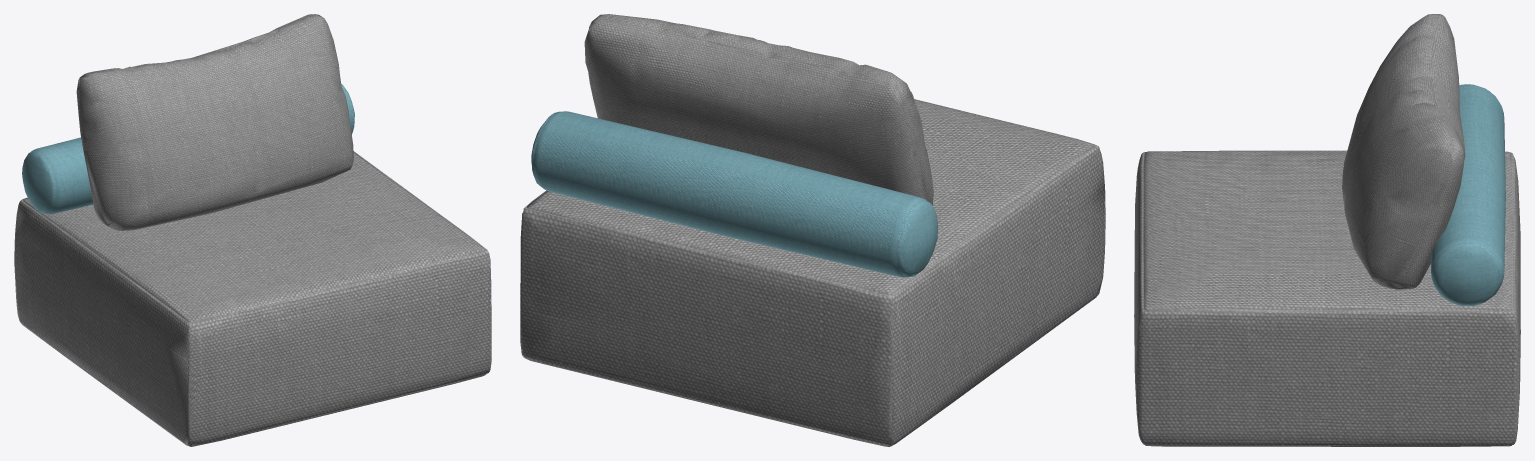
Rendered from Sofa 2.FBX.
3 views of the same model, side by side, from view 1: azimuth 30°, elevation 25°; view 2: azimuth 150°, elevation 25°; view 3: azimuth 270°, elevation 25° (orthographic). The views are drawn at different scales.
Visible parts, largest first — view 1: sofa 2; view 2: sofa 2; view 3: sofa 2.
Boxes of the visible parts, bbox=[...] form: sofa 2: bbox=[14, 14, 491, 446]; sofa 2: bbox=[520, 14, 1105, 446]; sofa 2: bbox=[1134, 14, 1520, 446].
Size of the model in its own units: 104 by 86 by 101.
Materials: 2 (2 with a texture image).
